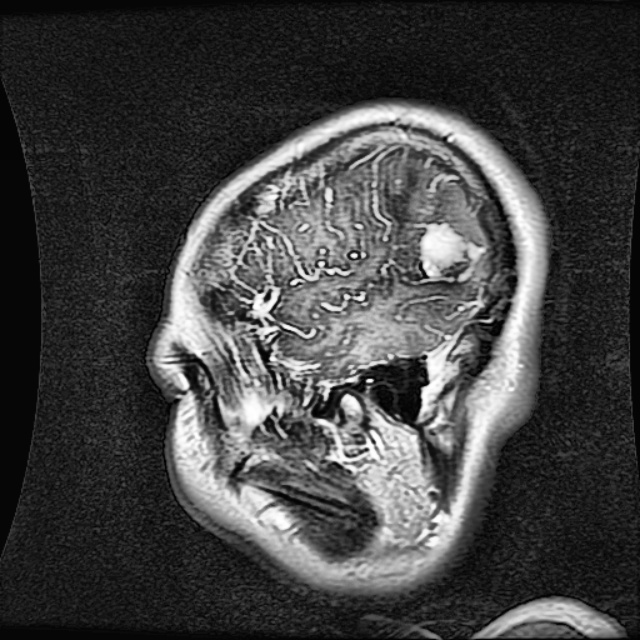Meningioma: (423, 222, 488, 278)
